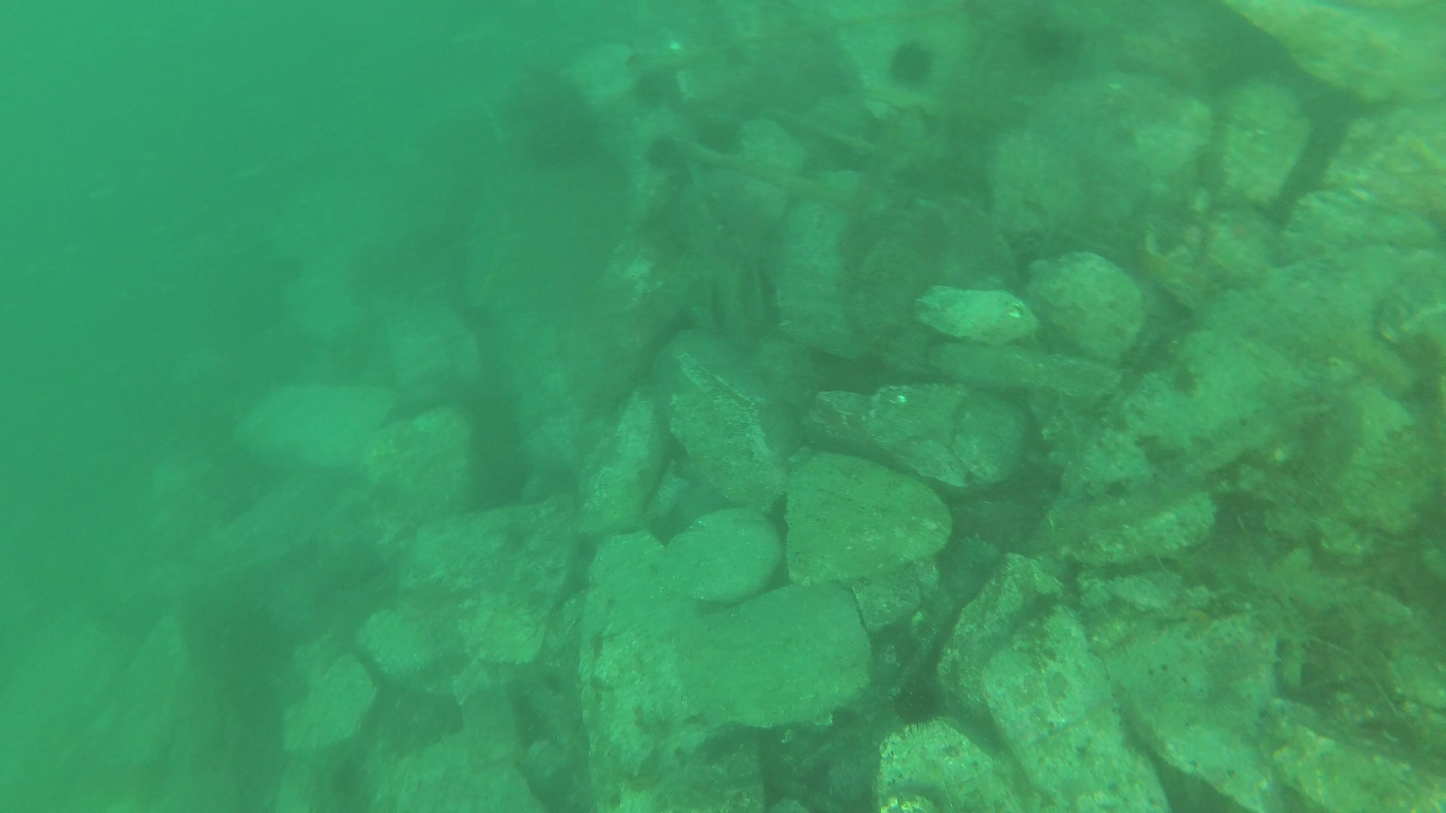starfish: (887, 40, 935, 85), (647, 136, 679, 168)
